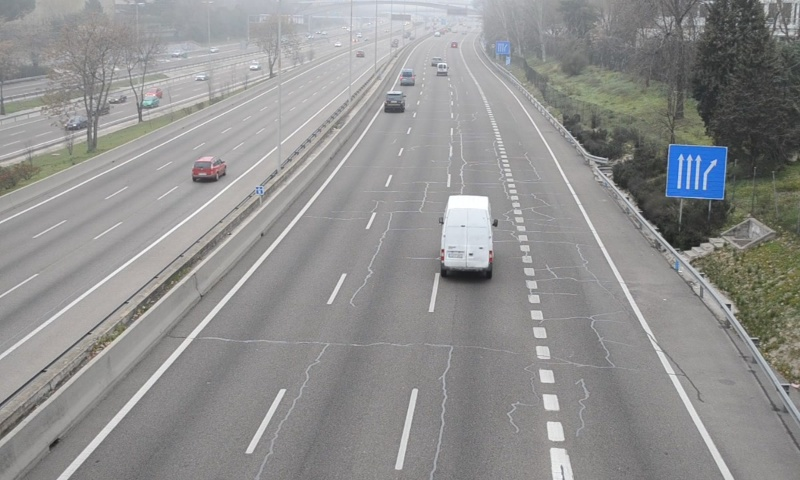car: (383, 91, 405, 114)
van: (439, 196, 494, 278), (400, 67, 414, 84)
